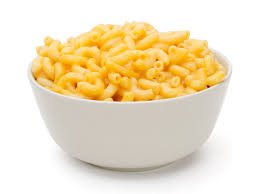macncheese: (23, 18, 228, 102)
